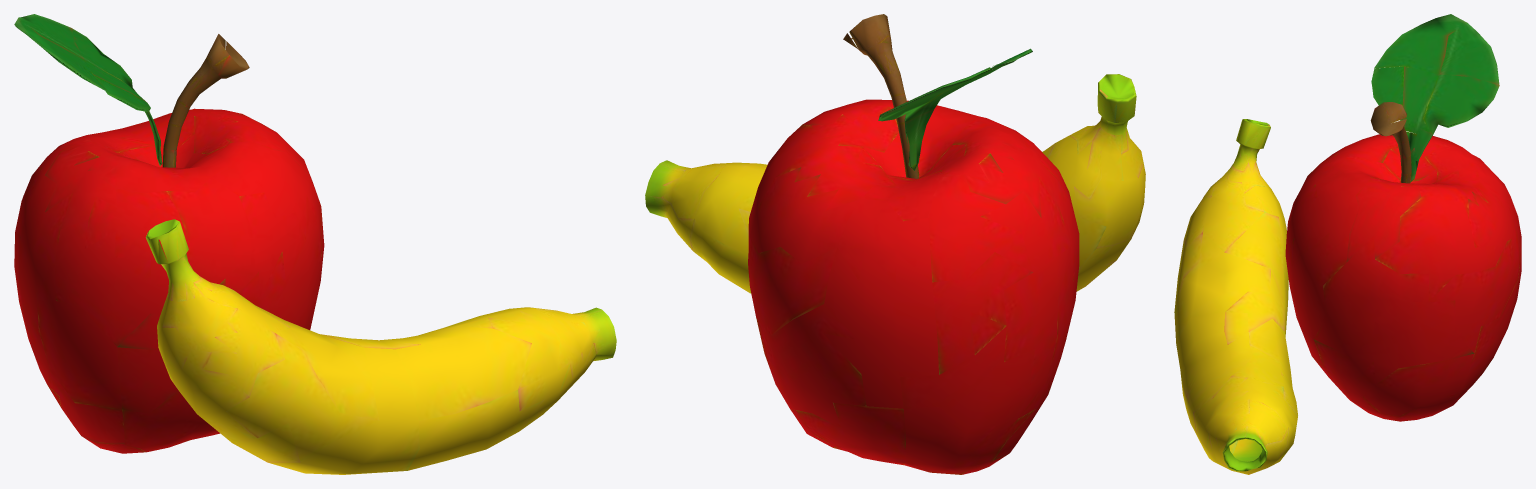
Rendered from fruit_set.glb.
3 views of the same model, side by side, from view 1: azimuth 30°, elevation 25°; view 2: azimuth 150°, elevation 25°; view 3: azimuth 270°, elevation 25° (orthographic). The views are drawn at different scales.
Size of the model in its own units: 1 by 0.8574 by 0.8027.
1 material, 1 textured.
